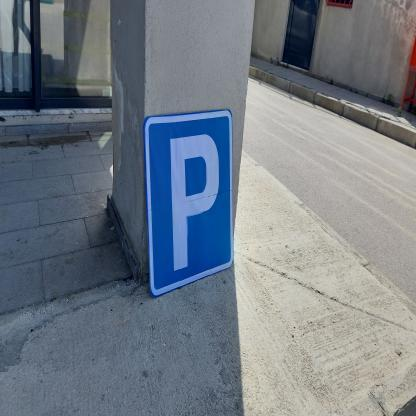parking: (143, 107, 235, 299)
